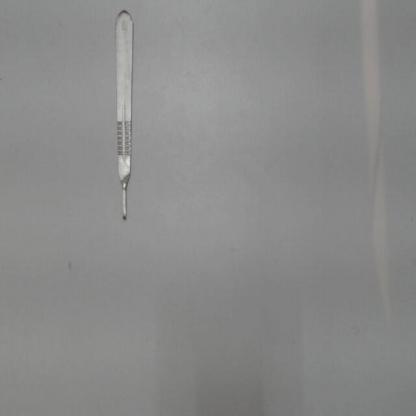No.3 BP Handle: (109, 4, 143, 236)
